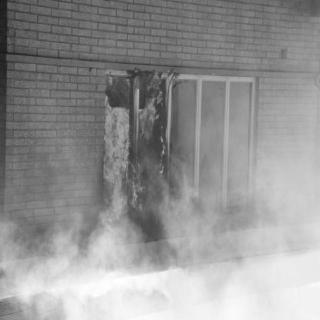Fire: (89, 73, 175, 225)
Smoke: (14, 224, 312, 314)
